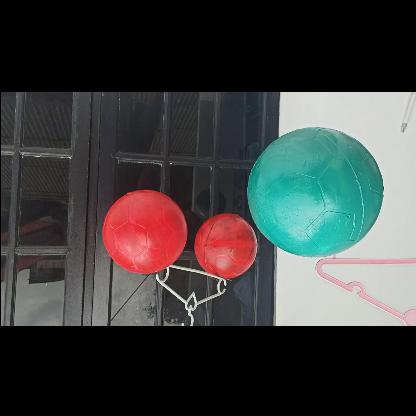red_ball: (104, 192, 184, 272), (190, 214, 256, 278)
